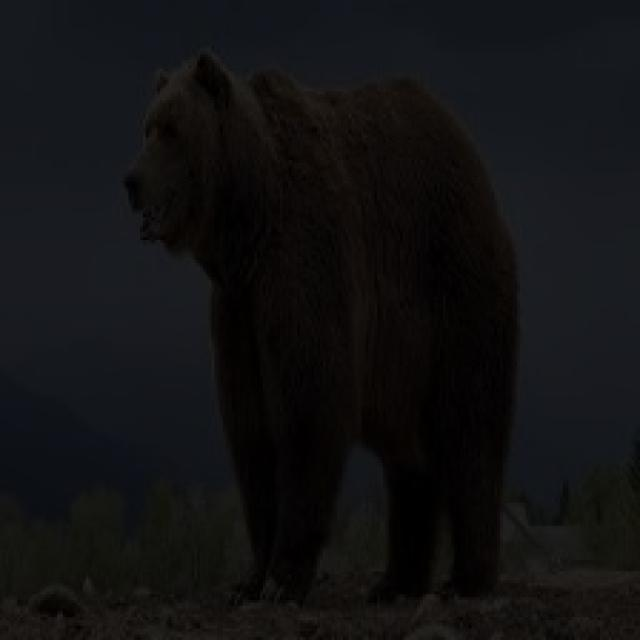bear: (101, 21, 573, 589)
